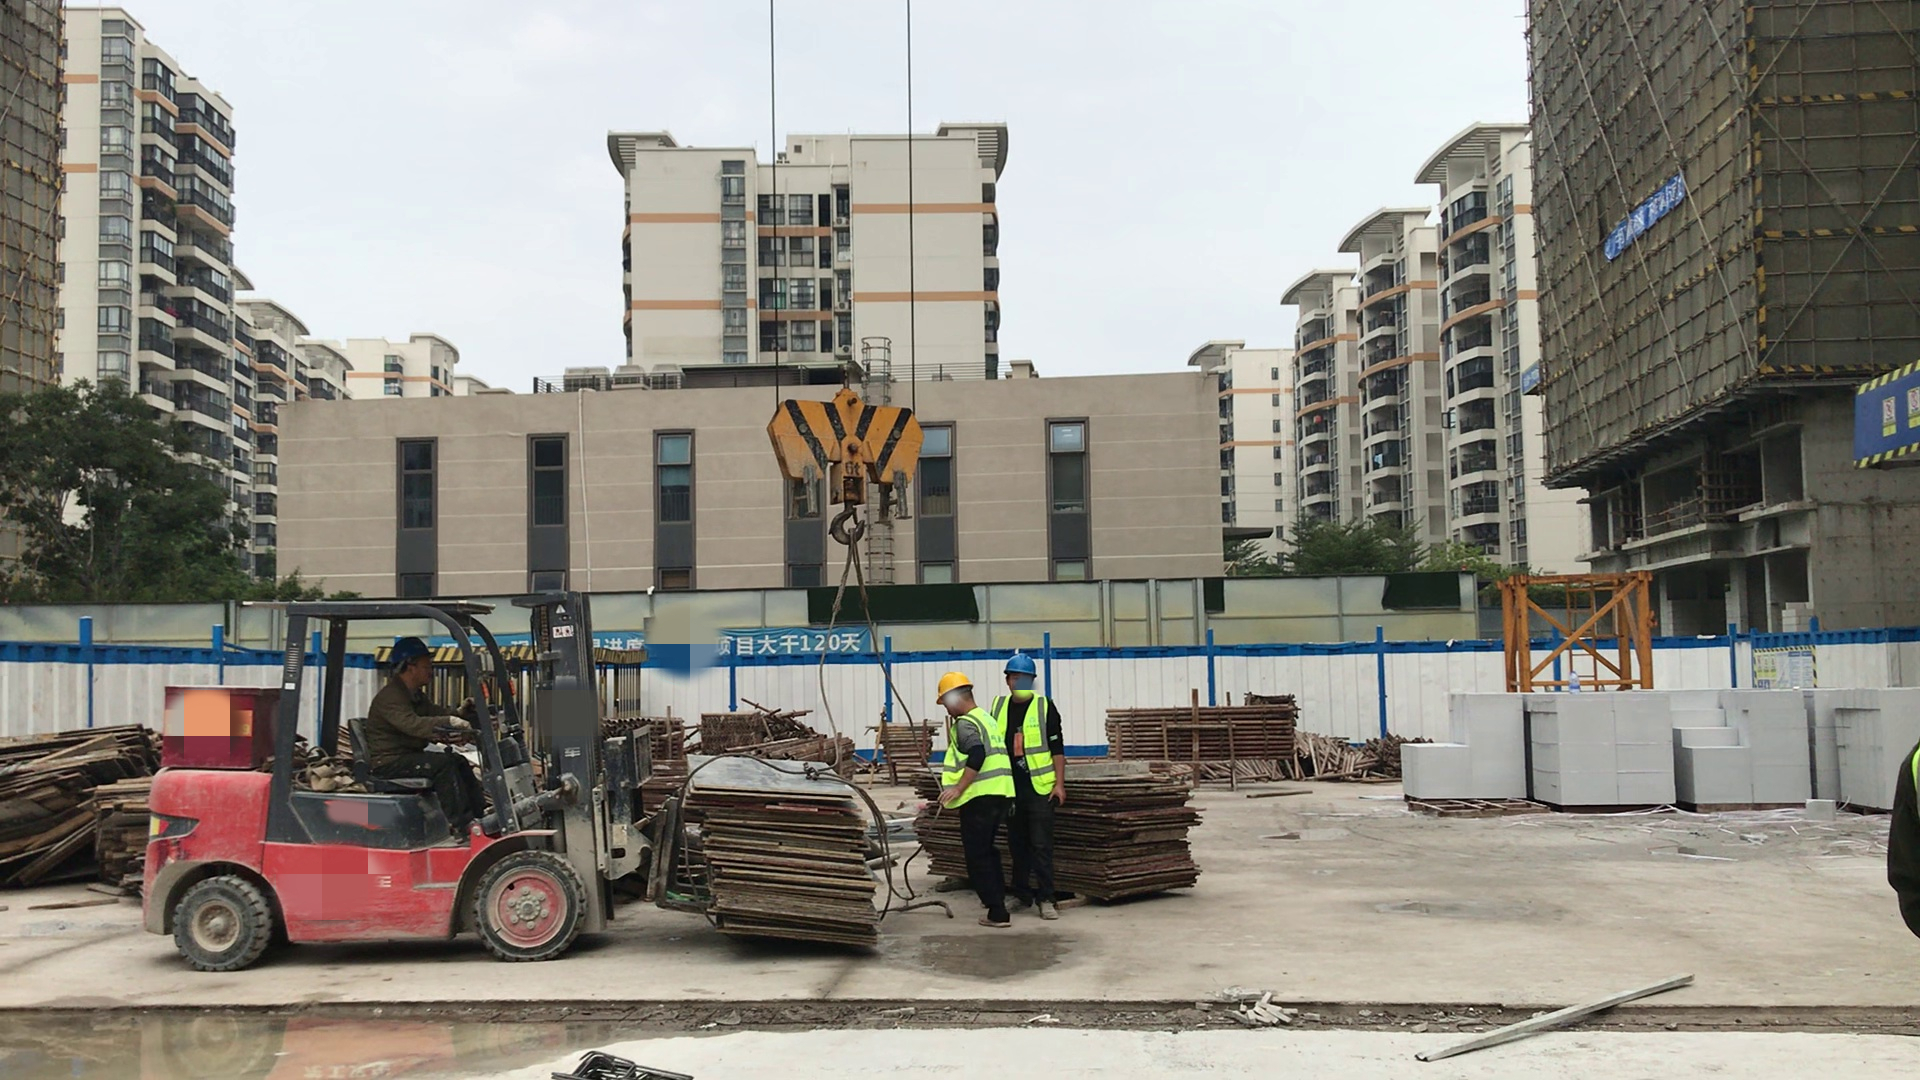board: (682, 750, 879, 946), (1073, 768, 1201, 900)
brick: (1527, 691, 1675, 811), (1671, 687, 1812, 808), (1400, 693, 1528, 820), (1813, 687, 1913, 812)
helmet: (379, 633, 429, 672), (932, 670, 974, 699), (1000, 654, 1036, 679)
hook: (765, 385, 921, 543)
person: (365, 637, 489, 842), (933, 673, 1019, 927), (988, 654, 1067, 921)
slogan: (704, 630, 866, 665)
vest: (940, 708, 1015, 808), (992, 695, 1059, 799)
